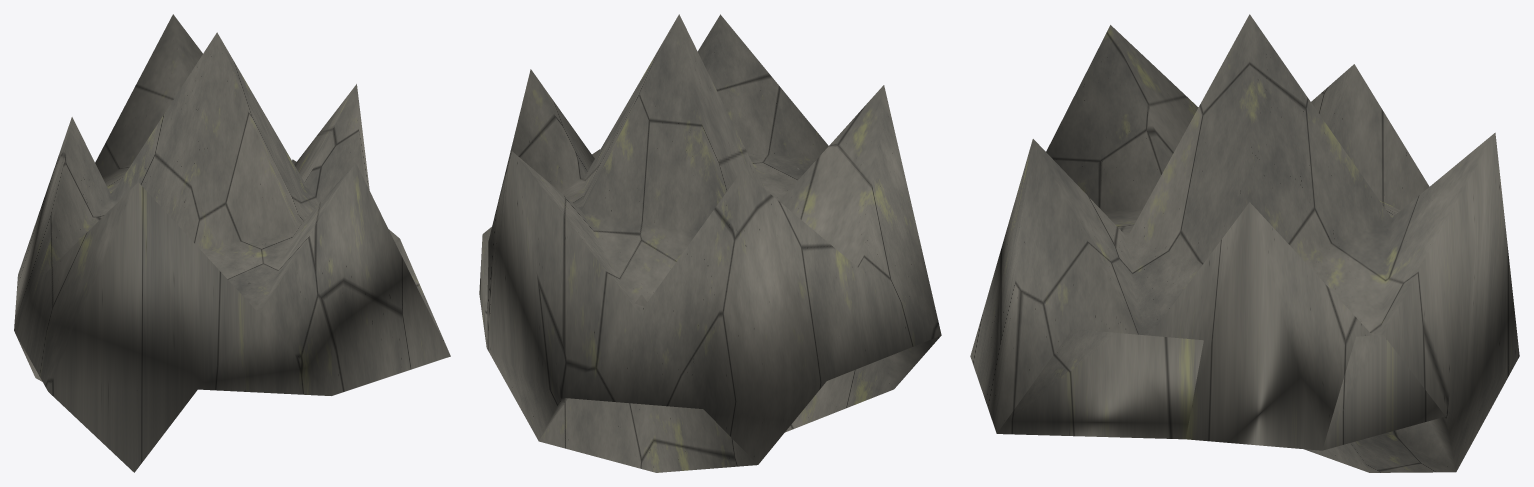
The model's file is Boulder_1.fbx.
The picture shows the model from 3 angles, left to right: view 1: azimuth 30°, elevation 25°; view 2: azimuth 150°, elevation 25°; view 3: azimuth 270°, elevation 25°; orthographic projection. The views are drawn at different scales.
Visible parts, largest first — view 1: Boulder_1; view 2: Boulder_1; view 3: Boulder_1.
Part boxes in pixels (x1,y1,x2,y2): Boulder_1: (14, 14, 450, 472); Boulder_1: (479, 14, 941, 472); Boulder_1: (970, 14, 1519, 472).
Bounding box in the file's own units: 1.63 × 1.66 × 1.73.
